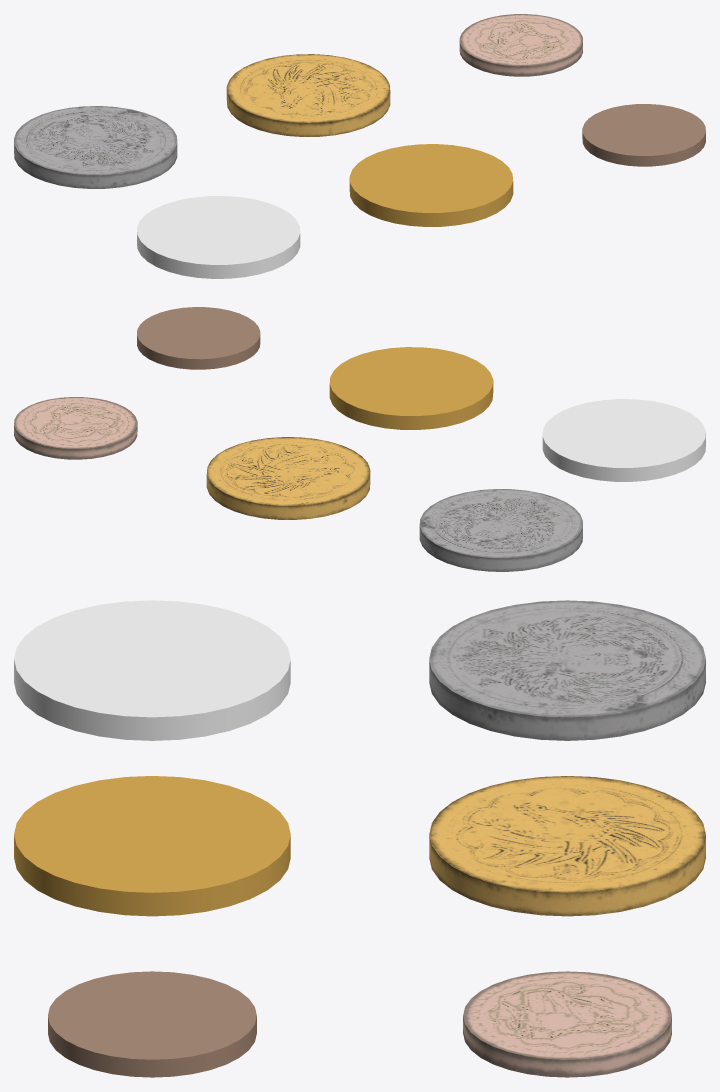
Rendered from fantasy-coins.glb.
3 renders of one model, top to bottom at view 1: azimuth 30°, elevation 25°; view 2: azimuth 150°, elevation 25°; view 3: azimuth 270°, elevation 25°, orthographic. The views are drawn at different scales.
Visible parts, largest first — view 1: Coin_Gold-Old, Coin_Gold-New, Coin_Silver-Old, Coin_Silver-New, Coin_Copper-Old, Coin_Copper-New; view 2: Coin_Gold-New, Coin_Gold-Old, Coin_Silver-New, Coin_Silver-Old, Coin_Copper-Old, Coin_Copper-New; view 3: Coin_Silver-Old, Coin_Silver-New, Coin_Gold-Old, Coin_Gold-New, Coin_Copper-Old, Coin_Copper-New.
Part boxes in pixels (x1,y1,x2,y2): Coin_Gold-Old: [226, 54, 390, 136]; Coin_Gold-New: [349, 144, 513, 226]; Coin_Silver-Old: [14, 106, 177, 188]; Coin_Silver-New: [137, 196, 300, 278]; Coin_Copper-Old: [459, 14, 582, 76]; Coin_Copper-New: [582, 104, 705, 166]; Coin_Gold-New: [329, 347, 493, 429]; Coin_Gold-Old: [206, 437, 370, 519]; Coin_Silver-New: [542, 399, 705, 481]; Coin_Silver-Old: [419, 489, 582, 571]; Coin_Copper-Old: [14, 397, 137, 459]; Coin_Copper-New: [137, 307, 260, 369]; Coin_Silver-Old: [429, 600, 705, 740]; Coin_Silver-New: [14, 600, 290, 740]; Coin_Gold-Old: [429, 776, 705, 916]; Coin_Gold-New: [14, 776, 290, 916]; Coin_Copper-Old: [463, 971, 671, 1077]; Coin_Copper-New: [48, 971, 256, 1077].
Size of the model in its own units: 20.16 by 0.4882 by 12.99.
1 material, 1 textured.
